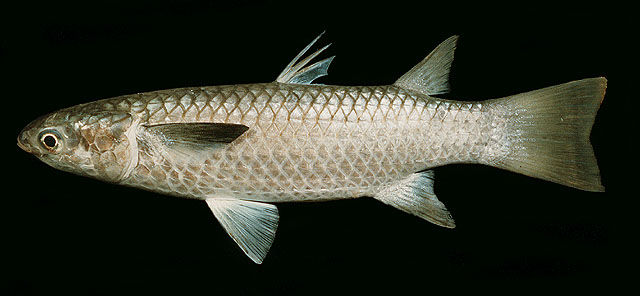fish: (16, 28, 609, 266)
